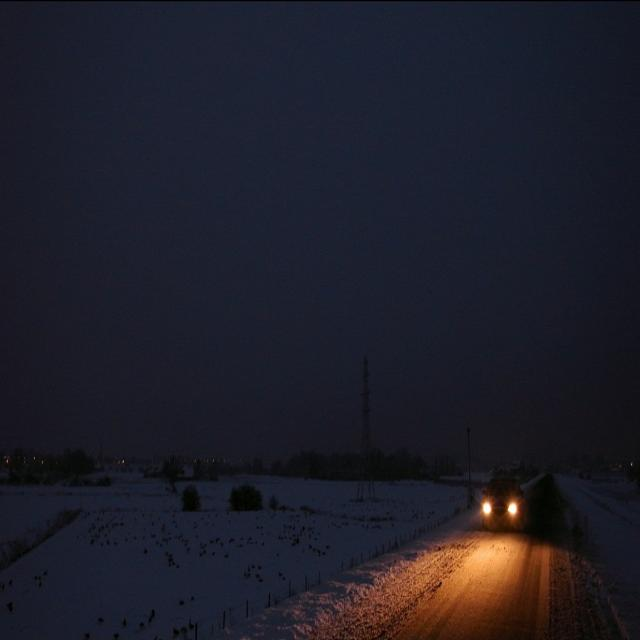car: (479, 462, 539, 537)
